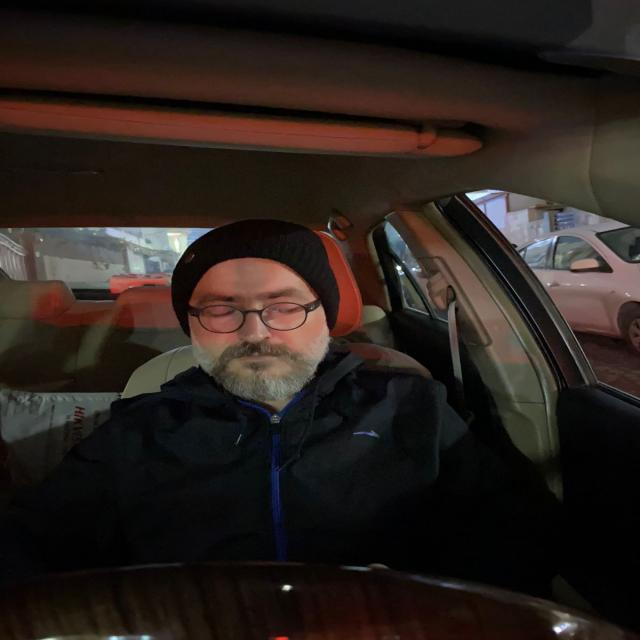drowsy: (170, 228, 337, 404)
